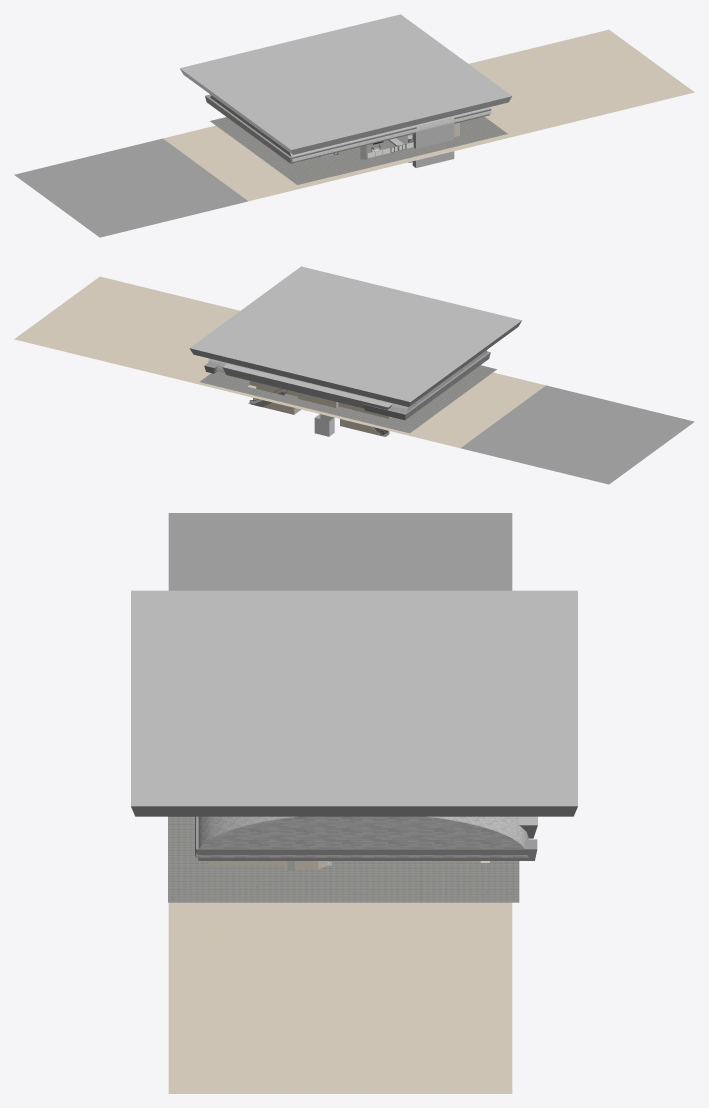
Rendered from bsh_station.fbx.
3 views of the same model, one above another, from view 1: azimuth 30°, elevation 25°; view 2: azimuth 150°, elevation 25°; view 3: azimuth 270°, elevation 25° (orthographic). The views are drawn at different scales.
Visible parts, largest first — view 1: roof_01_geo, pPlane3, pPlane4, pPlane2, main_floors_tile_01_geo, pPlane1, semi_circle_ceiling_01_geo, ceiling_01_geo, square_tile_wall_geo; view 2: roof_01_geo, pPlane3, pPlane4, pPlane2, main_floors_tile_01_geo, wall_geo, pPlane1, ceiling_01_geo, semi_circle_ceiling_01_geo, elevator_external_01_geo; view 3: roof_01_geo, pPlane4, pPlane3, pPlane1, main_floors_tile_01_geo, semi_circle_ceiling_01_geo, ceiling_01_geo.
Part boxes in pixels (bbox=[...]): roof_01_geo: bbox=[180, 14, 512, 154]; pPlane3: bbox=[14, 138, 247, 237]; pPlane4: bbox=[469, 29, 694, 128]; pPlane2: bbox=[163, 125, 396, 201]; main_floors_tile_01_geo: bbox=[210, 116, 507, 184]; pPlane1: bbox=[393, 102, 545, 164]; semi_circle_ceiling_01_geo: bbox=[210, 95, 491, 162]; ceiling_01_geo: bbox=[205, 94, 491, 163]; square_tile_wall_geo: bbox=[360, 118, 454, 167]; roof_01_geo: bbox=[189, 266, 521, 409]; pPlane3: bbox=[460, 385, 694, 484]; pPlane4: bbox=[14, 276, 240, 375]; pPlane2: bbox=[312, 372, 545, 447]; main_floors_tile_01_geo: bbox=[200, 365, 496, 433]; wall_geo: bbox=[249, 381, 391, 436]; pPlane1: bbox=[163, 354, 313, 411]; ceiling_01_geo: bbox=[204, 351, 490, 420]; semi_circle_ceiling_01_geo: bbox=[208, 350, 487, 411]; elevator_external_01_geo: bbox=[314, 414, 334, 436]; roof_01_geo: bbox=[131, 590, 577, 838]; pPlane4: bbox=[168, 948, 512, 1093]; pPlane3: bbox=[168, 513, 512, 590]; pPlane1: bbox=[168, 861, 512, 948]; main_floors_tile_01_geo: bbox=[168, 816, 519, 902]; semi_circle_ceiling_01_geo: bbox=[195, 816, 528, 857]; ceiling_01_geo: bbox=[196, 816, 537, 860].
Size of the model in its own units: 11787 by 1522 by 3835.
